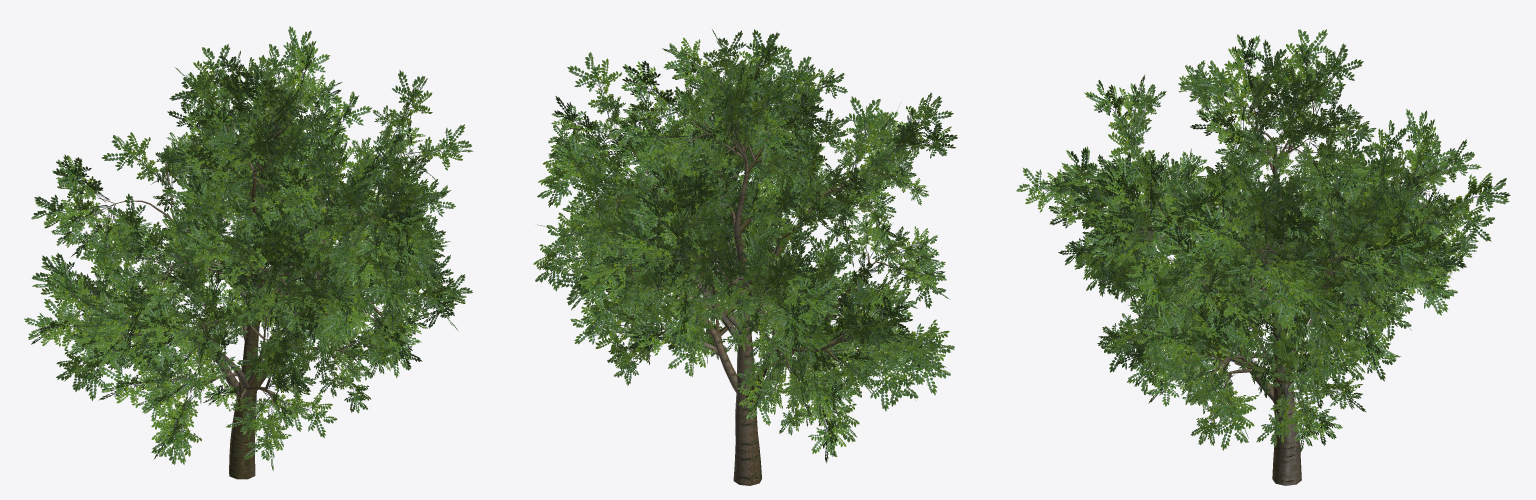
Rendered from Tree5.fbx.
3 views of the same model, side by side, from view 1: azimuth 30°, elevation 25°; view 2: azimuth 150°, elevation 25°; view 3: azimuth 270°, elevation 25° (orthographic). The views are drawn at different scales.
Visible parts, largest first — view 1: Tree5; view 2: Tree5; view 3: Tree5.
Boxes of the visible parts, x1,y1,x2,y2 form: Tree5: (24, 26, 473, 479); Tree5: (533, 29, 957, 485); Tree5: (1016, 29, 1510, 485).
Size of the model in its own units: 1014 by 1003 by 1025.
2 materials, 2 textured.
